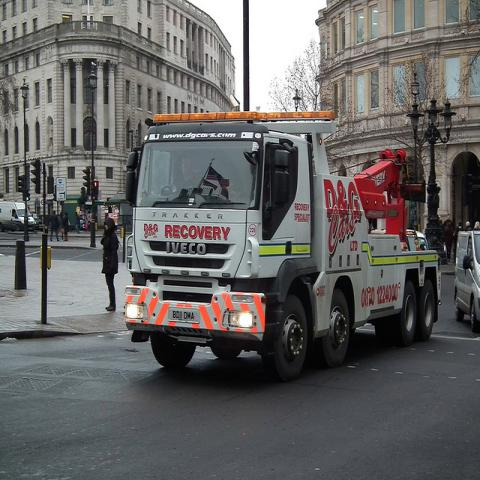car: (454, 233, 480, 327)
truck: (129, 117, 441, 355), (0, 200, 38, 229)
